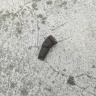Dog: (38, 35, 57, 61)
